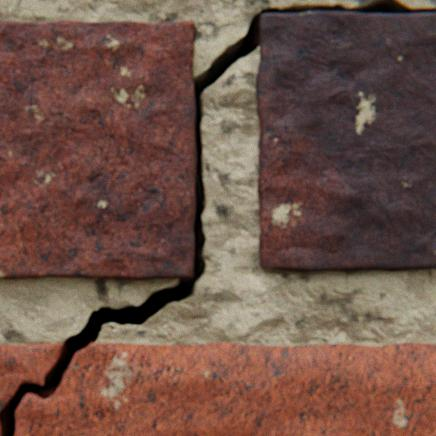brick: (0, 21, 195, 280), (255, 13, 435, 271)
broken_brick: (15, 342, 435, 435), (0, 343, 63, 411), (0, 422, 1, 435)
crack: (0, 0, 435, 435)
